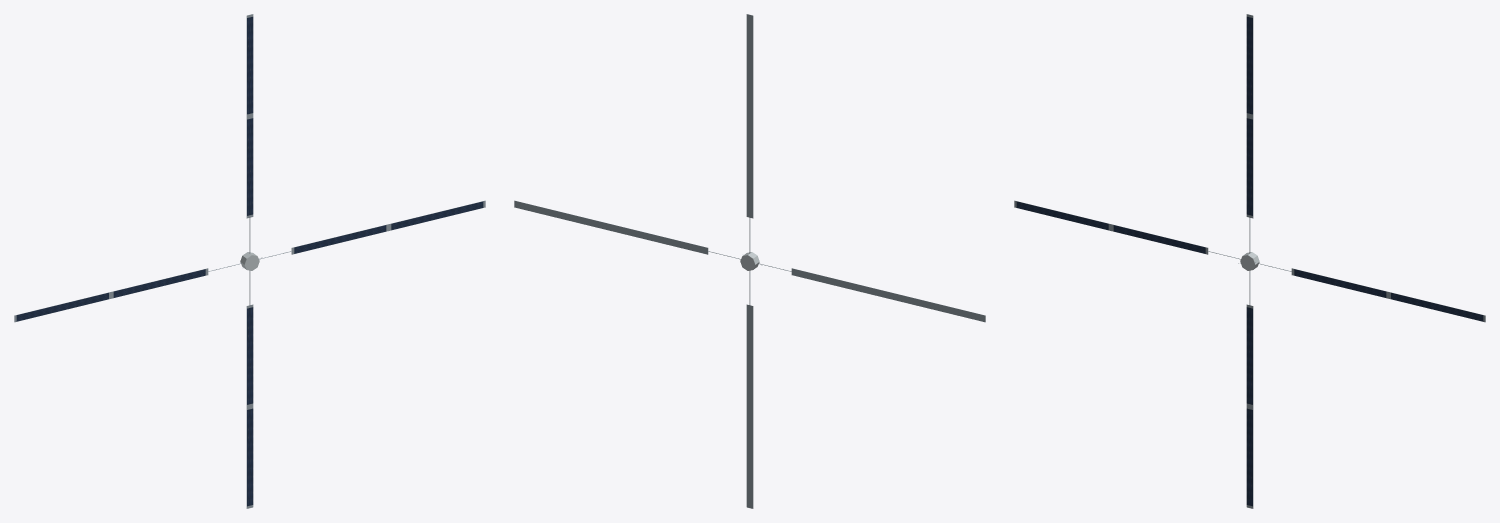
Rendered from ref-nts-7369.glb.
The picture shows the model from 3 angles, left to right: view 1: azimuth 30°, elevation 25°; view 2: azimuth 150°, elevation 25°; view 3: azimuth 330°, elevation 25°; orthographic projection.
Visible parts, largest first — view 1: Photovoltaic laminates (×8); view 2: Array frame (×8); view 3: Photovoltaic laminates (×8).
Part boxes in pixels (bbox=[...]): Photovoltaic laminates (×8): bbox=[16, 17, 483, 506]; Array frame (×8): bbox=[514, 14, 985, 508]; Photovoltaic laminates (×8): bbox=[1016, 17, 1483, 506].
Bounding box in the file's own units: 37 × 37 × 0.6246.
3 materials, 1 textured.
